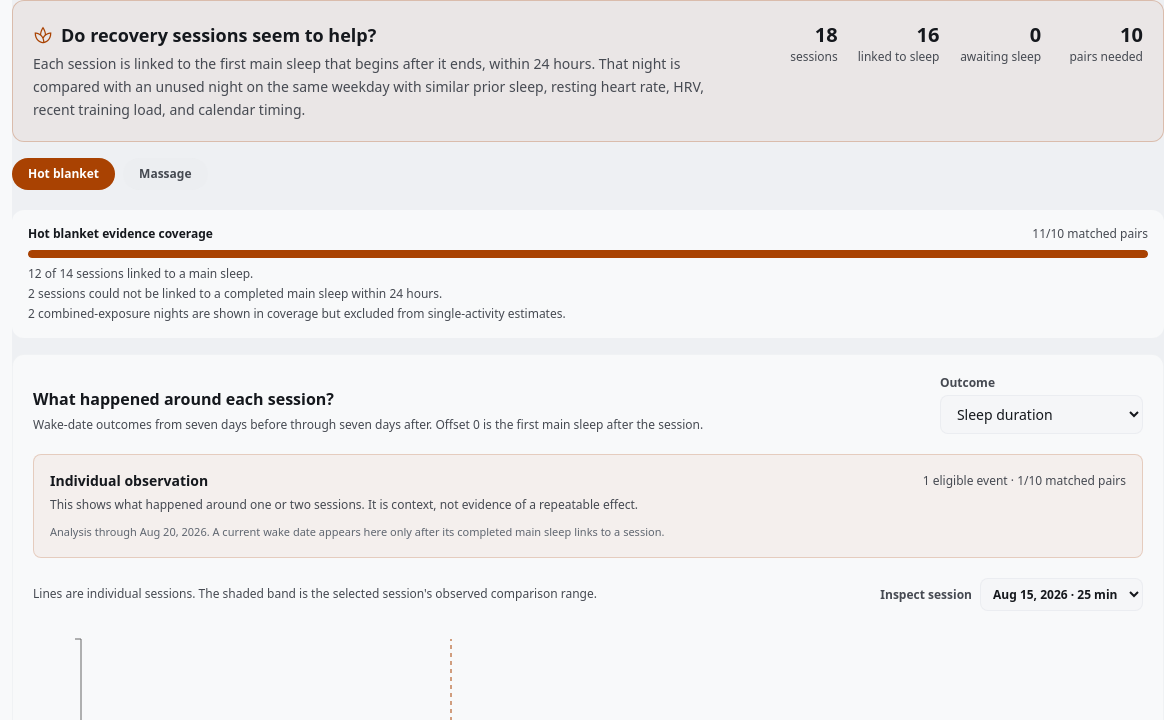
Test: RecoveryEffects › switches activities and shows collection progress below the evidence floor
What coordinates should you click on to do the following:
click the tab "Massage"
I would click on:
 (165, 174)
Its box is [123, 158, 208, 190].
(page scrolled)
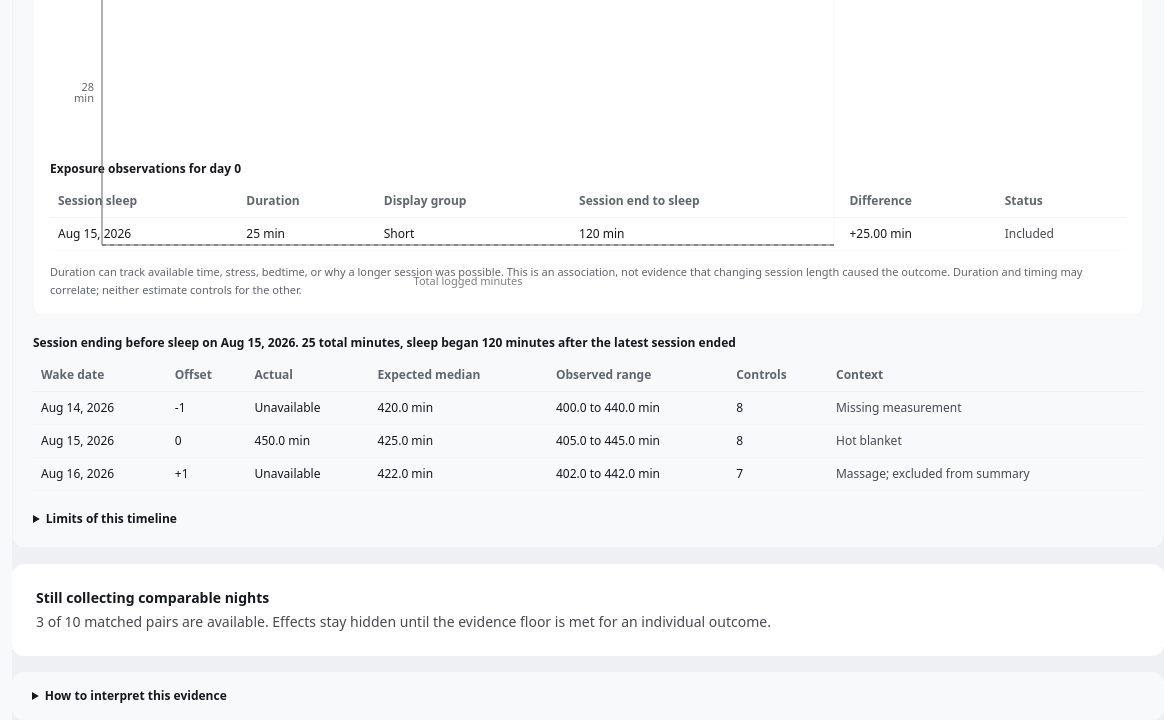
Expected: the text "3 of 10 matched pairs are available" is shown, [36, 612, 771, 631]
